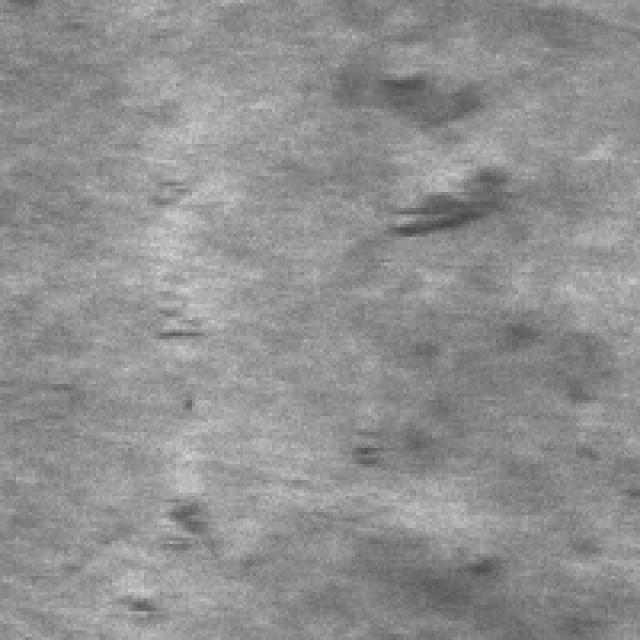rolled-in_scale: (330, 55, 547, 244)
